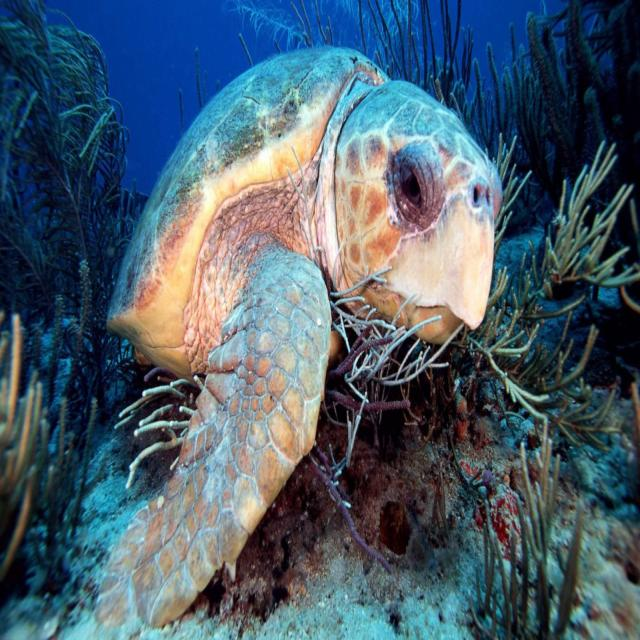turtle: (161, 30, 469, 570)
